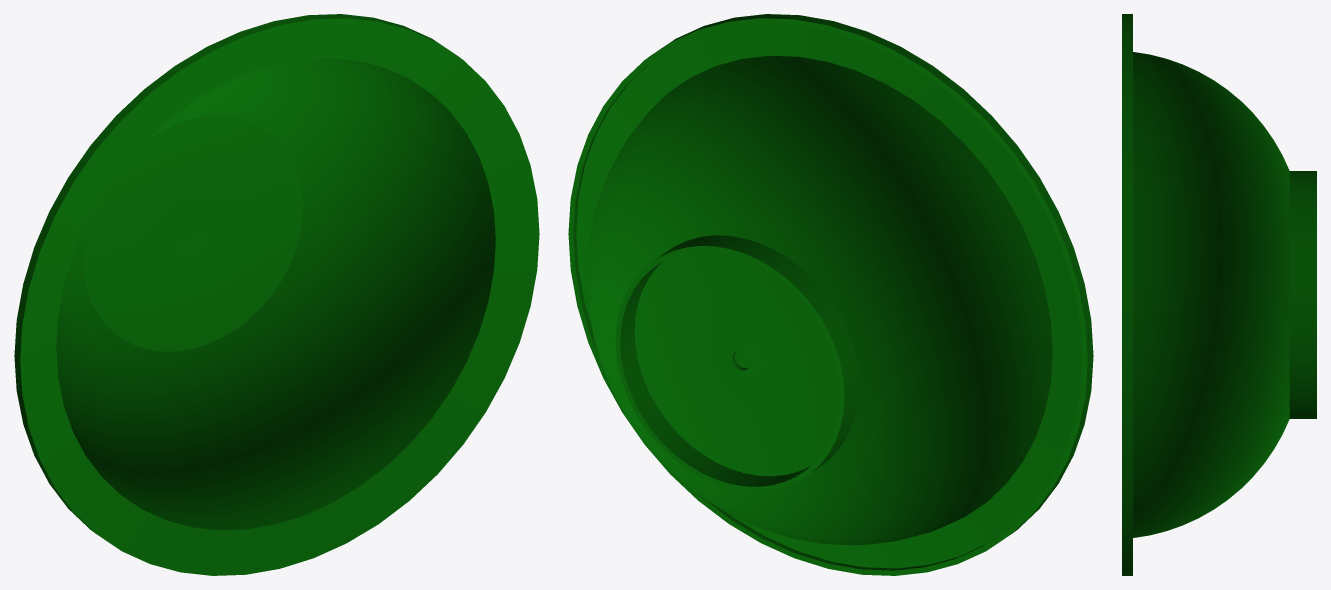
File: model_scale.obj
The picture shows the model from 3 angles, left to right: view 1: azimuth 30°, elevation 25°; view 2: azimuth 150°, elevation 25°; view 3: azimuth 270°, elevation 25°; orthographic projection. The views are drawn at different scales.
Parts seen in each view (by area): view 1: mesh1_mesh1-geometry; view 2: mesh1_mesh1-geometry; view 3: mesh1_mesh1-geometry.
Boxes of the visible parts, x1,y1,x2,y2 form: mesh1_mesh1-geometry: (14,14,539,575); mesh1_mesh1-geometry: (568,14,1093,575); mesh1_mesh1-geometry: (1122,14,1316,575).
Size of the model in its own units: 0.1605 by 0.1605 by 0.0556.
